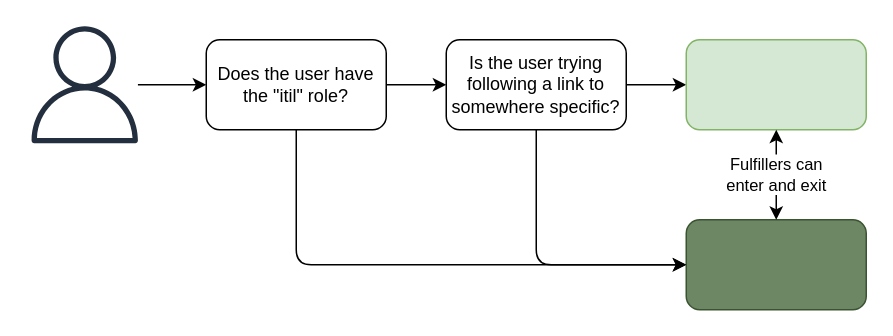
Some shapes in this 893 by 336 pixel diagram are drawn without their labels. Here are the shapes that lost their labels. From the top down, the centre of each, then its label:
At pixel 775 84: "Redirect to the Service Portal".
At pixel 775 264: "Let them through to the Platform UI".
